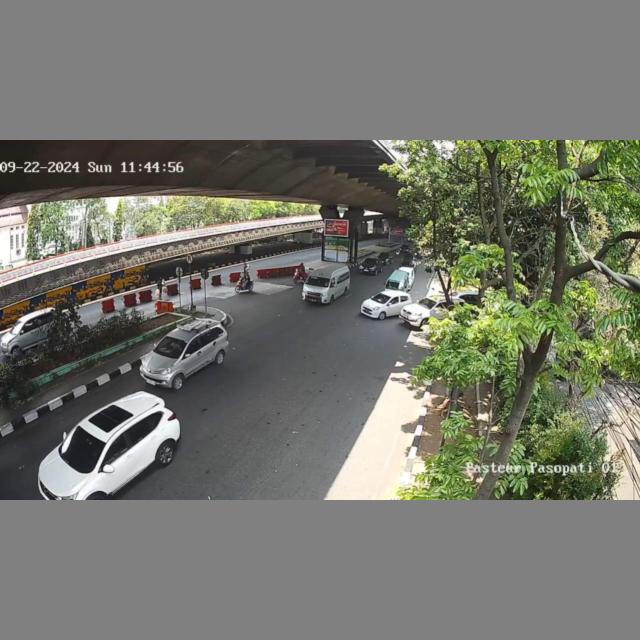windshield: (62, 427, 106, 470), (154, 336, 190, 360), (303, 276, 331, 287), (386, 279, 407, 290), (372, 292, 390, 302)
